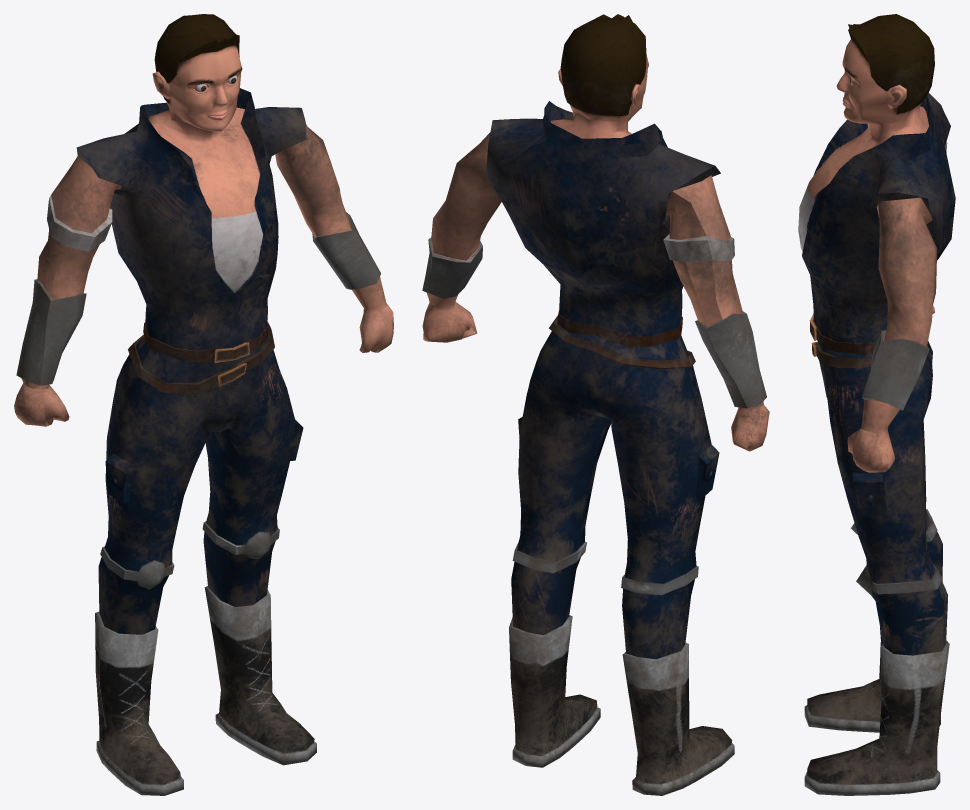
File: Anim_idle_jugador.0014.obj
3 views of the same model, side by side, from view 1: azimuth 30°, elevation 25°; view 2: azimuth 150°, elevation 25°; view 3: azimuth 270°, elevation 25° (orthographic).
Parts seen in each view (by area): view 1: polySurface1; view 2: polySurface1; view 3: polySurface1.
Boxes of the visible parts, bbox=[...] form: polySurface1: bbox=[14, 14, 393, 795]; polySurface1: bbox=[422, 14, 769, 795]; polySurface1: bbox=[798, 14, 955, 795].
Size of the model in its own units: 4.93 by 9.64 by 1.86.
